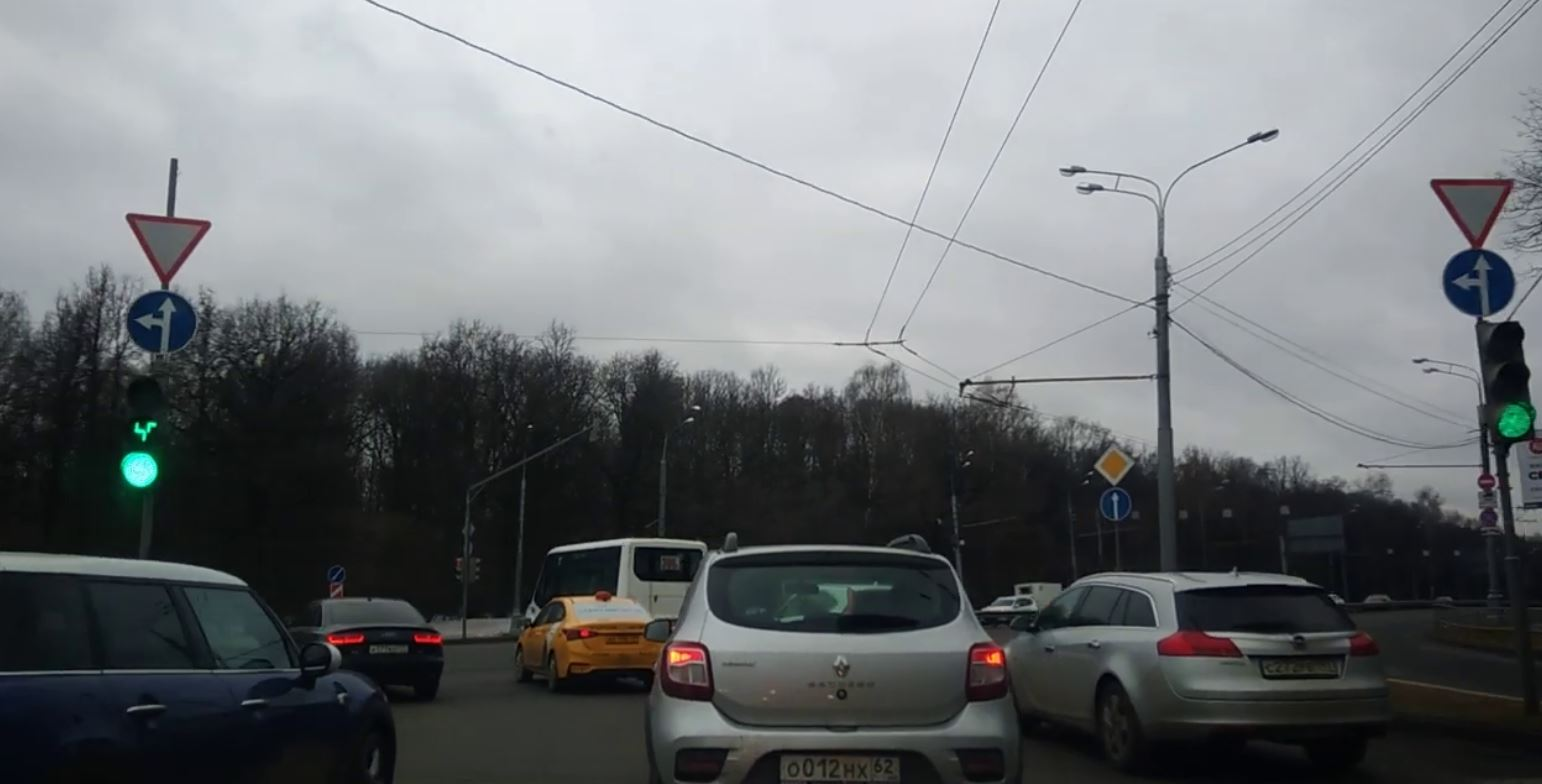Yol Ver: (130, 212, 219, 289), (1429, 168, 1516, 246)
